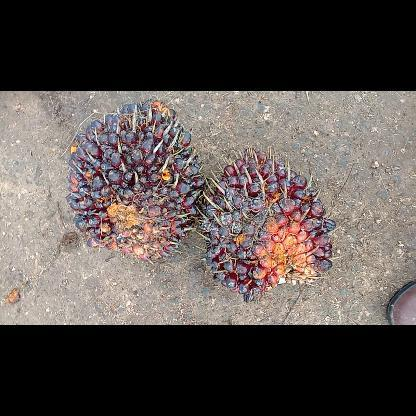Kurang masak: (61, 96, 205, 266), (196, 144, 338, 302)
